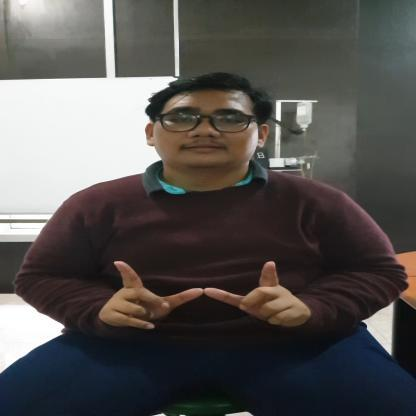W: (100, 260, 310, 330)
